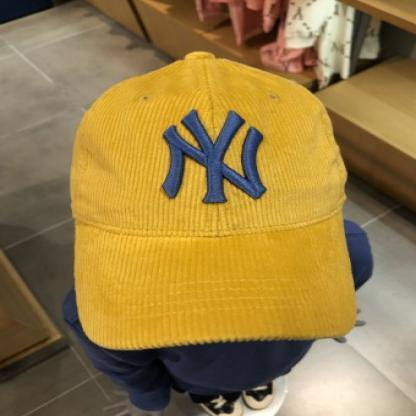cap: (57, 44, 368, 352)
